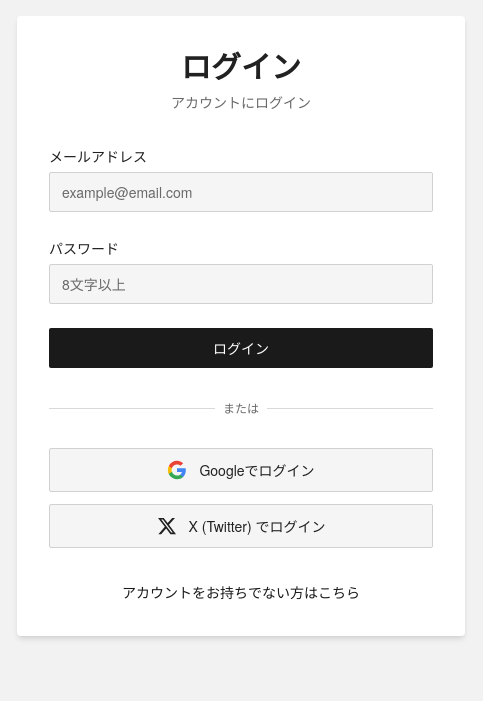
Test: LoginPage › displays fallback error when signIn returns error without message
Type "bad@test.com" into the field labelled "メールアドレス".
click(241, 192); type("bad@test.com")  # box [49,172,433,212]
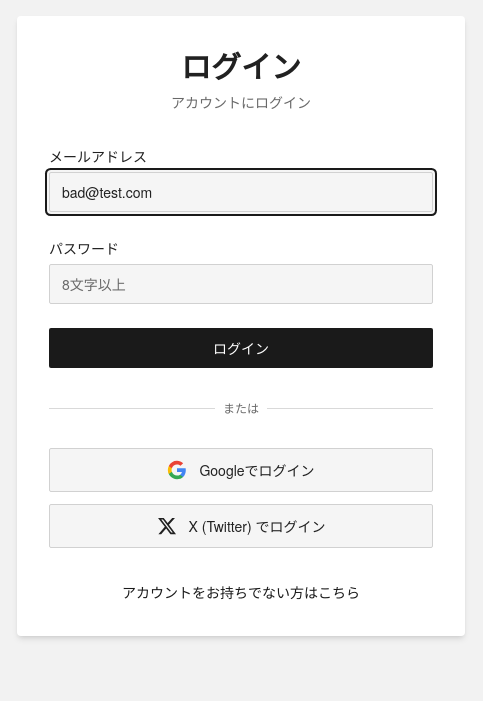
Type "wrongpass1" into the password field labelled "パスワード".
click(241, 284); type("wrongpass1")  # box [49,264,433,304]
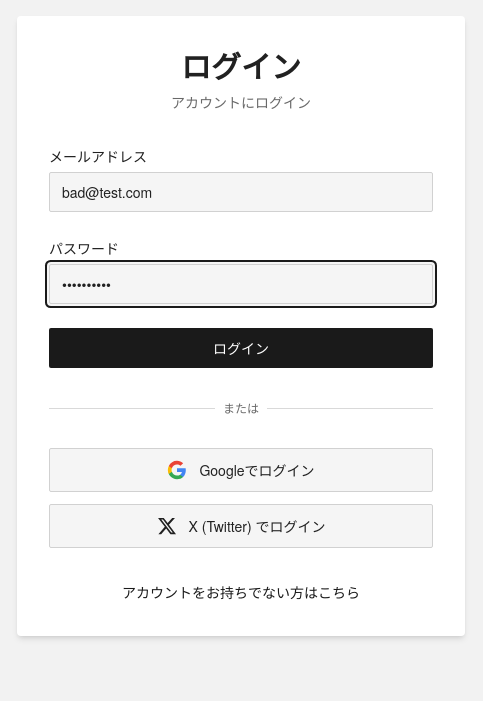
Click the button "ログイン".
click(241, 348)  # box [49,328,433,368]
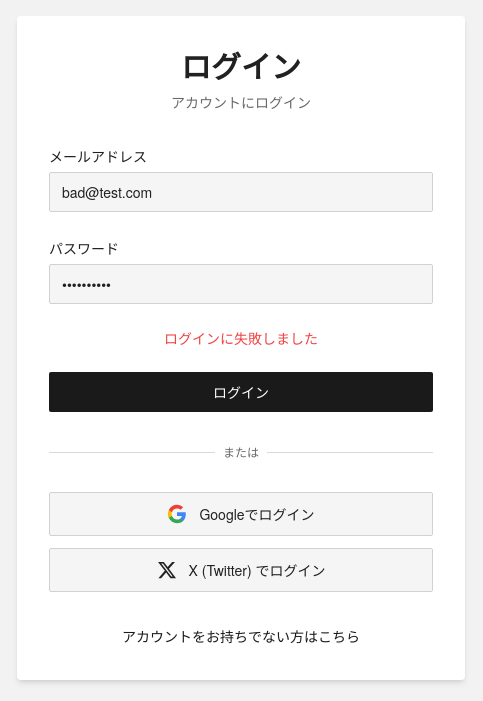
Now the text "ログインに失敗しました" is shown, box [164,328,318,348]
